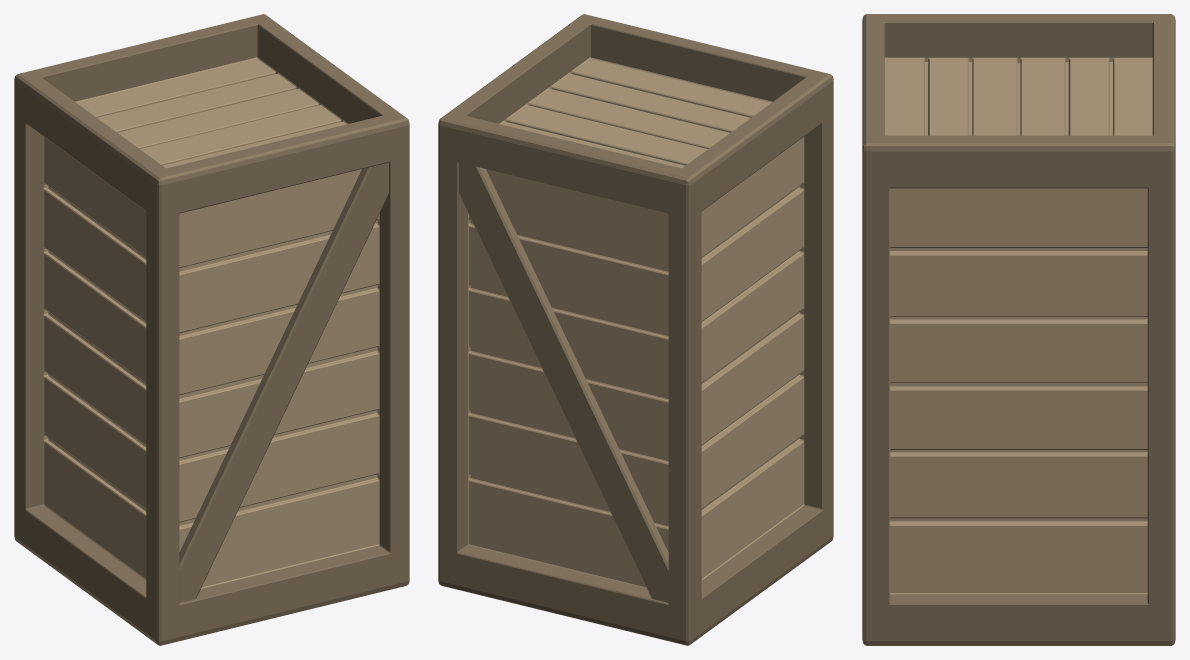
File: TallCrate.fbx
The picture shows the model from 3 angles, left to right: view 1: azimuth 30°, elevation 25°; view 2: azimuth 150°, elevation 25°; view 3: azimuth 270°, elevation 25°; orthographic projection. The views are drawn at different scales.
Parts seen in each view (by area): view 1: Cube.030; view 2: Cube.030; view 3: Cube.030.
Boxes of the visible parts, x1,y1,x2,y2 form: Cube.030: (14,14,409,645); Cube.030: (438,14,833,645); Cube.030: (862,14,1175,645).
Size of the model in its own units: 141 by 249 by 141.
